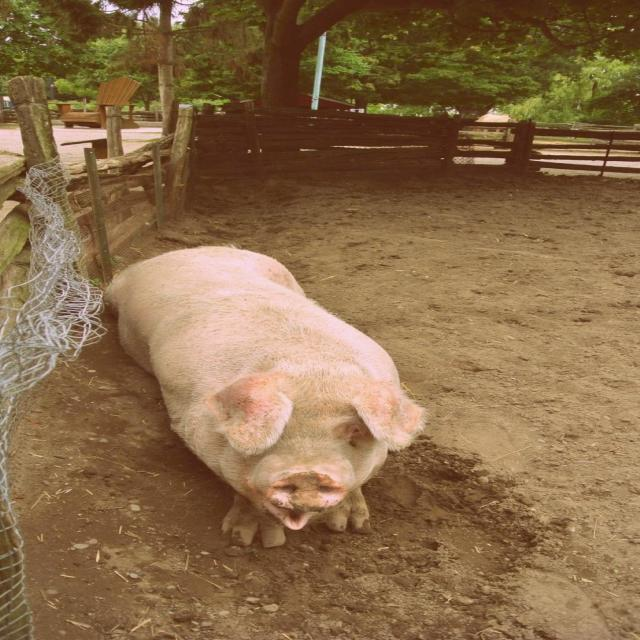pig: (104, 246, 427, 550)
